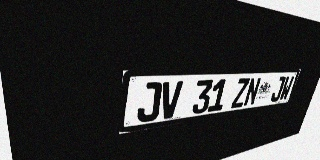1: (207, 79, 229, 112)
3: (191, 79, 214, 115)
J: (136, 82, 163, 123), (270, 76, 286, 102)
N: (243, 77, 261, 106)
V: (159, 81, 183, 120)
W: (278, 76, 294, 101)
Z: (231, 78, 250, 108)
